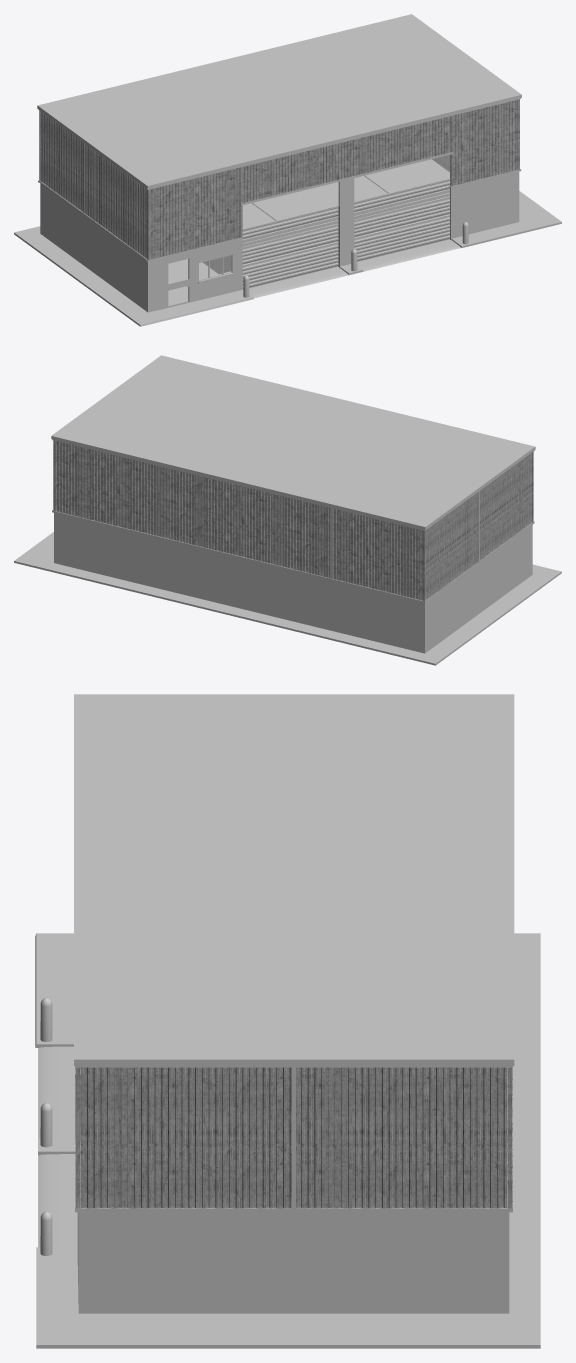
The model's file is garage.fbx.
The picture shows the model from 3 angles, top to bottom: view 1: azimuth 30°, elevation 25°; view 2: azimuth 150°, elevation 25°; view 3: azimuth 270°, elevation 25°; orthographic projection. The views are drawn at different scales.
Parts seen in each view (by area): view 1: Building, floor, LeftGrgDoor, RightGrgDoor, Door; view 2: Building, floor; view 3: Building, floor.
Boxes of the visible parts, left/top/right/bottom form: Building: left=37, top=14, right=521, bottom=312; floor: left=14, top=159, right=561, bottom=326; LeftGrgDoor: left=242, top=206, right=338, bottom=288; RightGrgDoor: left=354, top=179, right=450, bottom=261; Door: left=166, top=257, right=189, bottom=307; Building: left=51, top=355, right=535, bottom=653; floor: left=14, top=532, right=561, bottom=665; Building: left=74, top=694, right=514, bottom=1313; floor: left=35, top=933, right=540, bottom=1348.
Bounding box in the file's own units: 1011 × 525 × 297.
